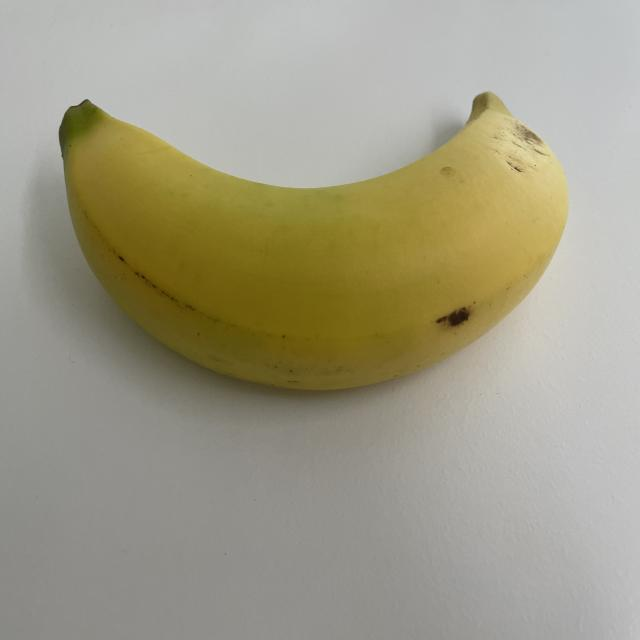banana: (48, 66, 579, 405)
